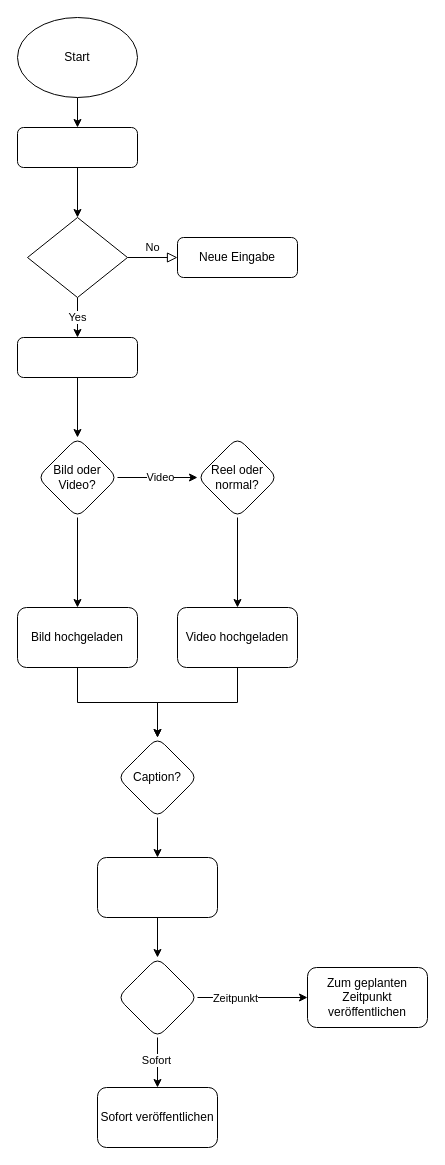
Some shapes in this 445 by 1165 pixel diagram are drawn without their labels. The box of each missing label's shape, as (x1, y1, x2, y2) in pixels:
Bild / Video auswählen: (16, 336, 138, 378)
Caption hinzufügen: (96, 856, 218, 918)
Ist Nutzer eingeloggt?: (26, 216, 128, 298)
Registrierung / Anmeldung: (16, 126, 138, 168)
Sofort oder Zeitpunkt?: (116, 956, 198, 1038)
